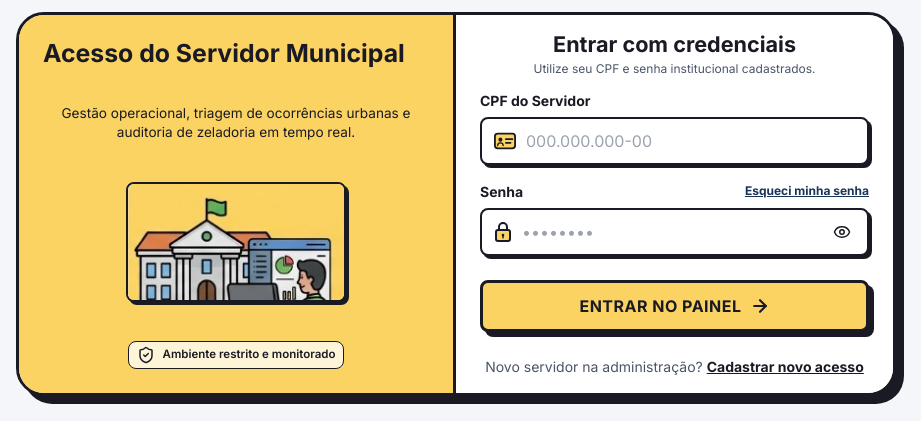
Test case: Página LoginPrefeitura (/login/prefeitura) › deve aplicar máscara ao digitar CPF
Type "12345678901" into the field labelled "CPF do Servidor". click: x=690, y=141
box: [526,119,855,163]
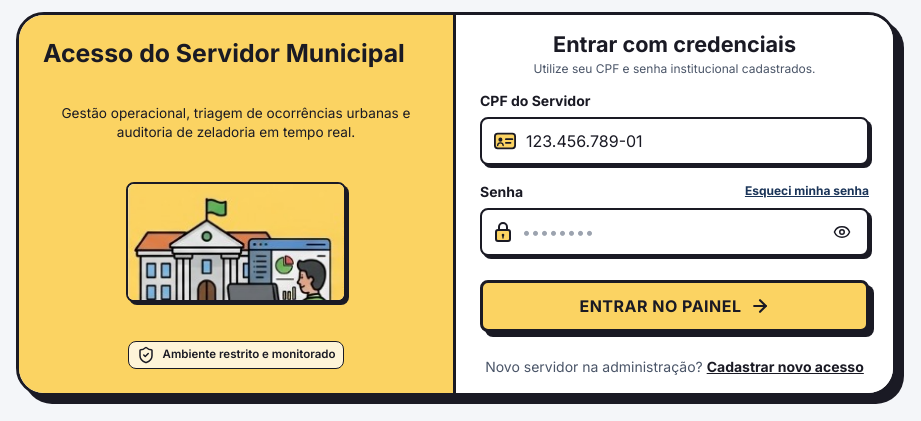
Check: the field labelled "CPF do Servidor" holds "123.456.789-01", box [526,119,855,163]
